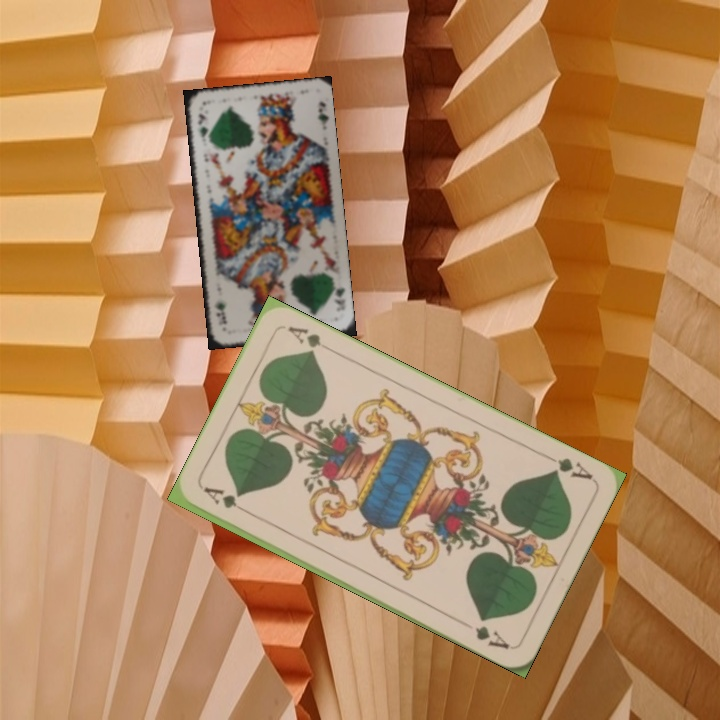GA: (199, 482, 254, 518), (541, 450, 596, 482)
GK: (328, 280, 348, 314), (194, 110, 210, 144)
